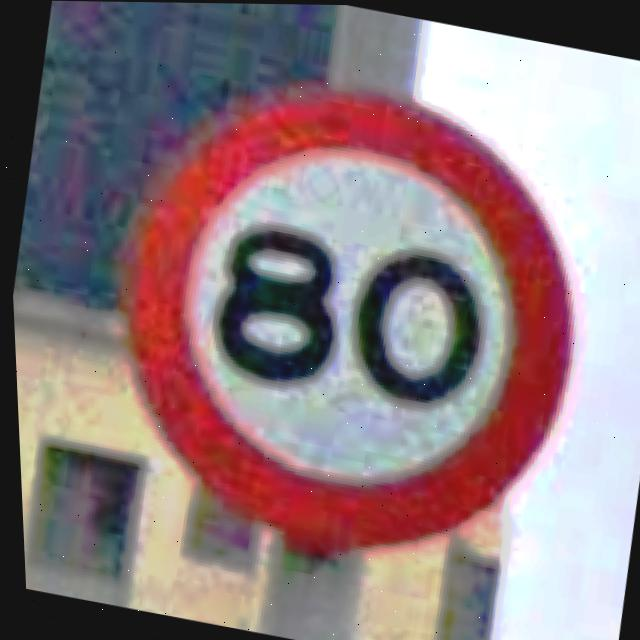max80: (65, 37, 621, 592)
